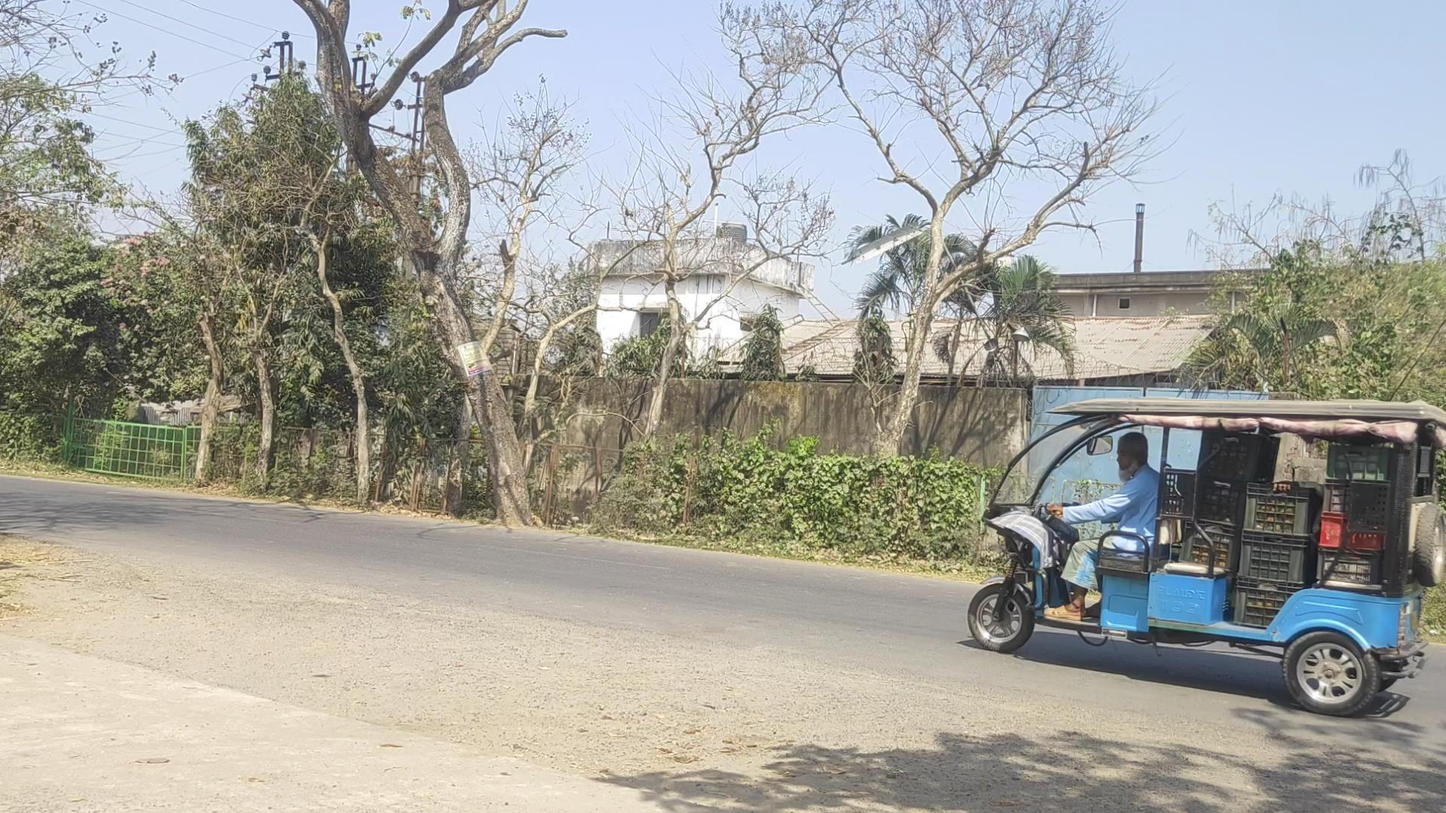Auto: (969, 399, 1446, 717)
